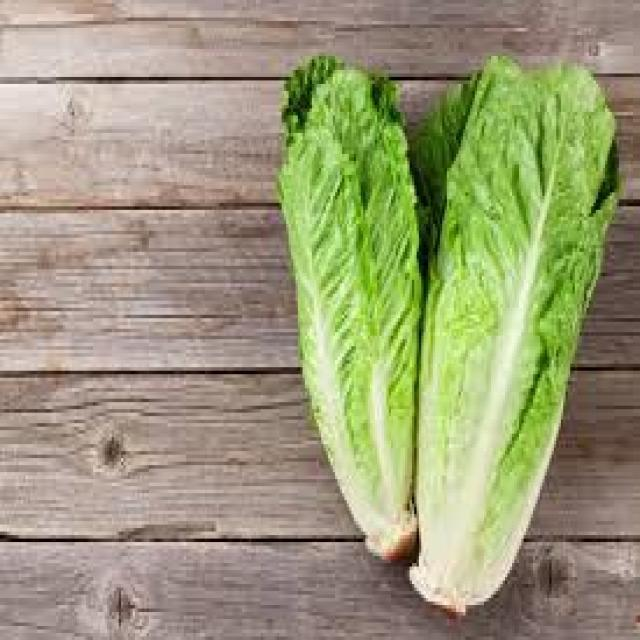Lettuce-Ready-to-Harvest: (410, 58, 618, 611), (279, 56, 421, 559)
